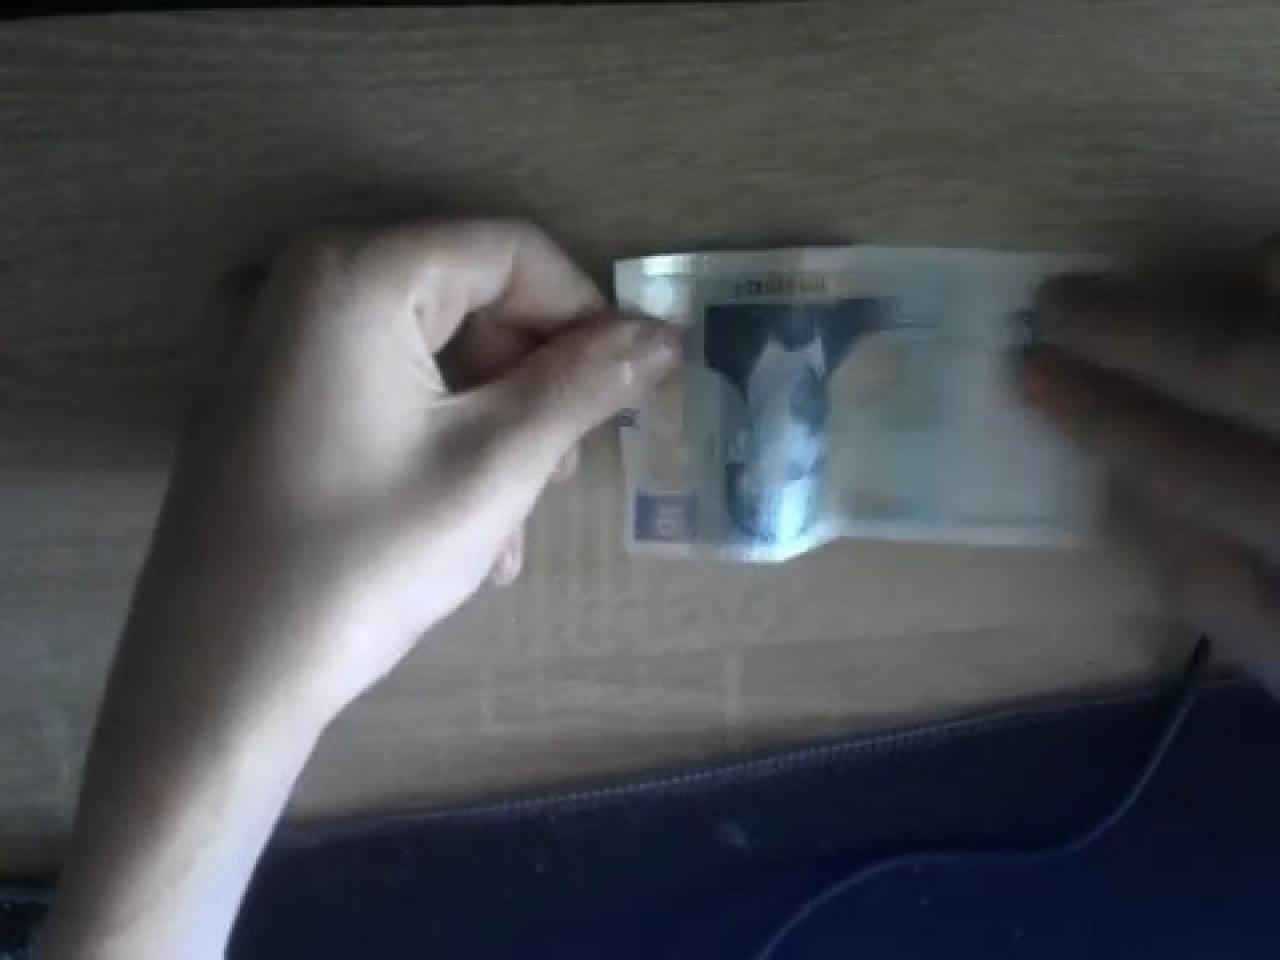20leva: (703, 298, 896, 563)
